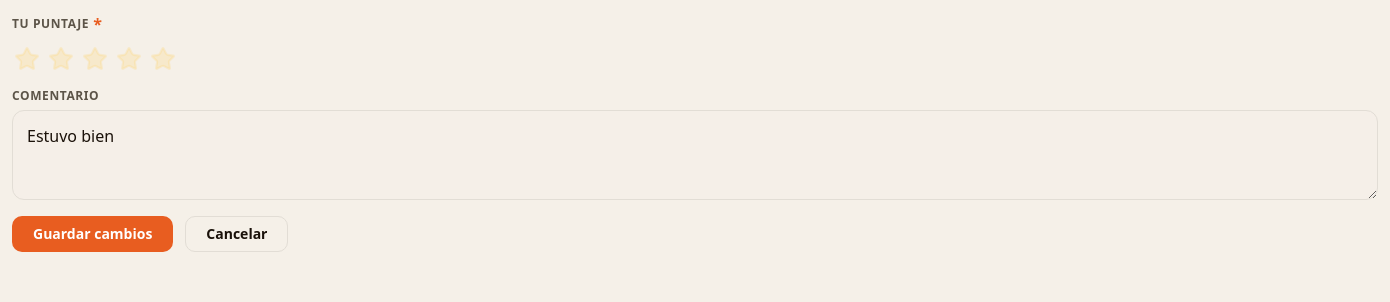
Test case: EditRatingForm › requires a score before saving
The width and height of the screenshot is (1390, 302).
Click the button "Guardar cambios" at [93, 234], box [12,216,173,252]
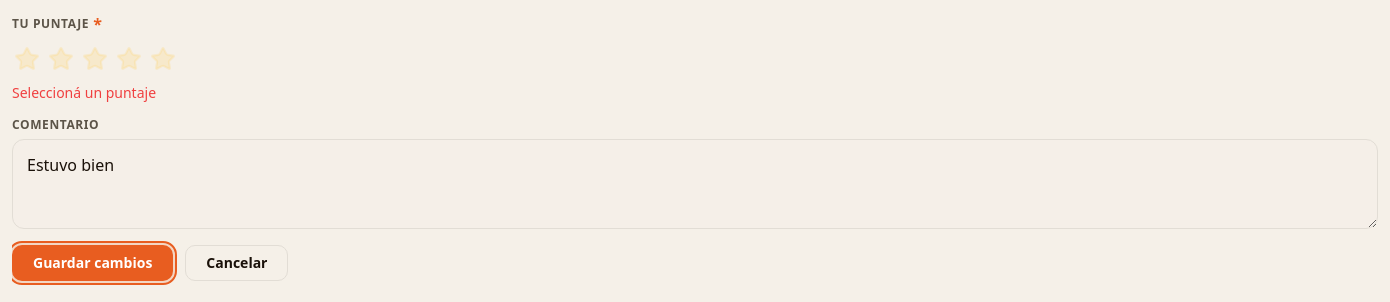
Result: the text "Seleccioná un puntaje" is shown at [12,83,156,102]
